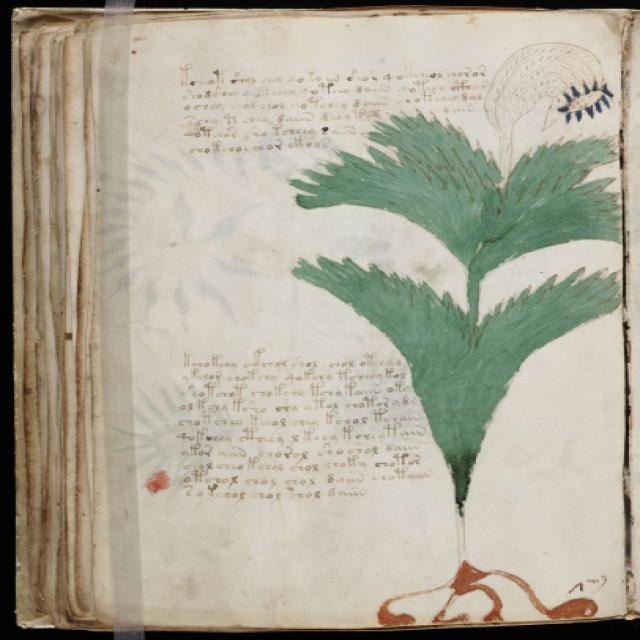plant: (285, 42, 626, 626)
